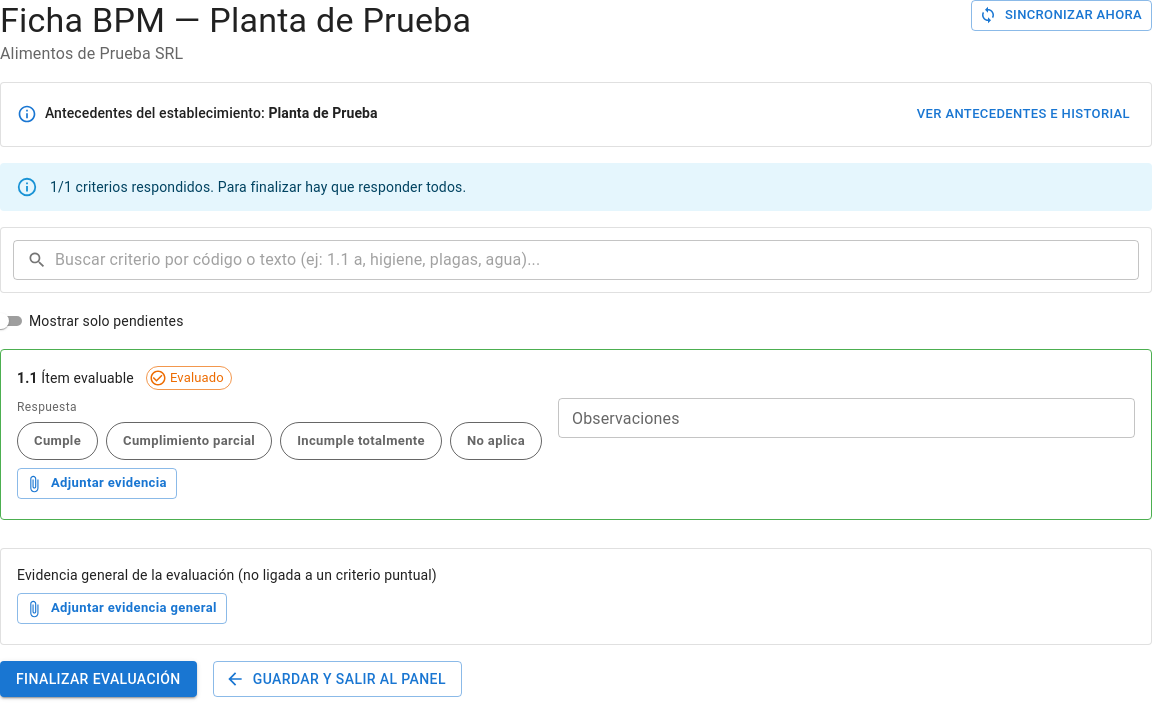
Test: EjecutarEvaluacion — en línea (comportamiento existente sin romper) › cada criterio respondido tiene su propio modal para adjuntar evidencia y localización geográfica
The width and height of the screenshot is (1152, 720).
Expected: the text "Ítem evaluable" is shown, [41,370,134,386]
// Al hacer clic, abre el modal propio del criterio con opciones de archivos y GPS
Click the button "Adjuntar evidencia".
click(97, 484)  # box [17,468,177,499]
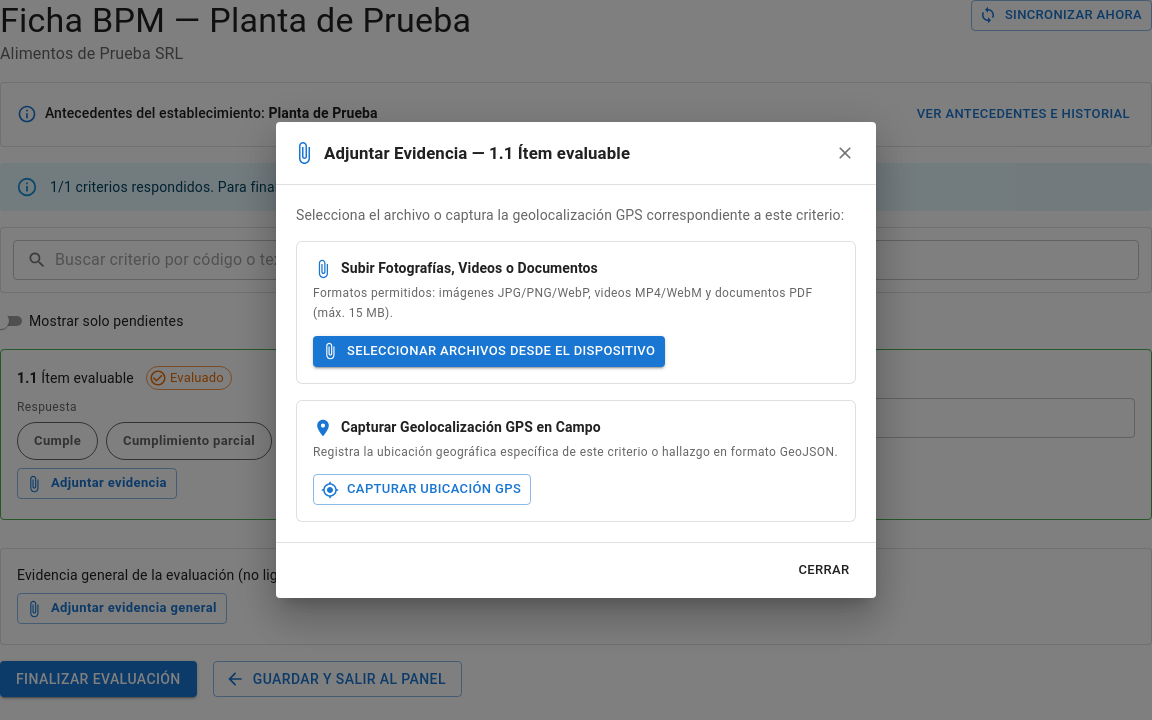
Result: the text "Adjuntar Evidencia — 1.1 Ítem evaluable" is shown at [324,140,630,166]
Result: the heading "Subir Fotografías, Videos o Documentos" is shown at [313,259,598,279]
Result: the heading "Capturar Geolocalización GPS en Campo" is shown at [313,418,601,438]
